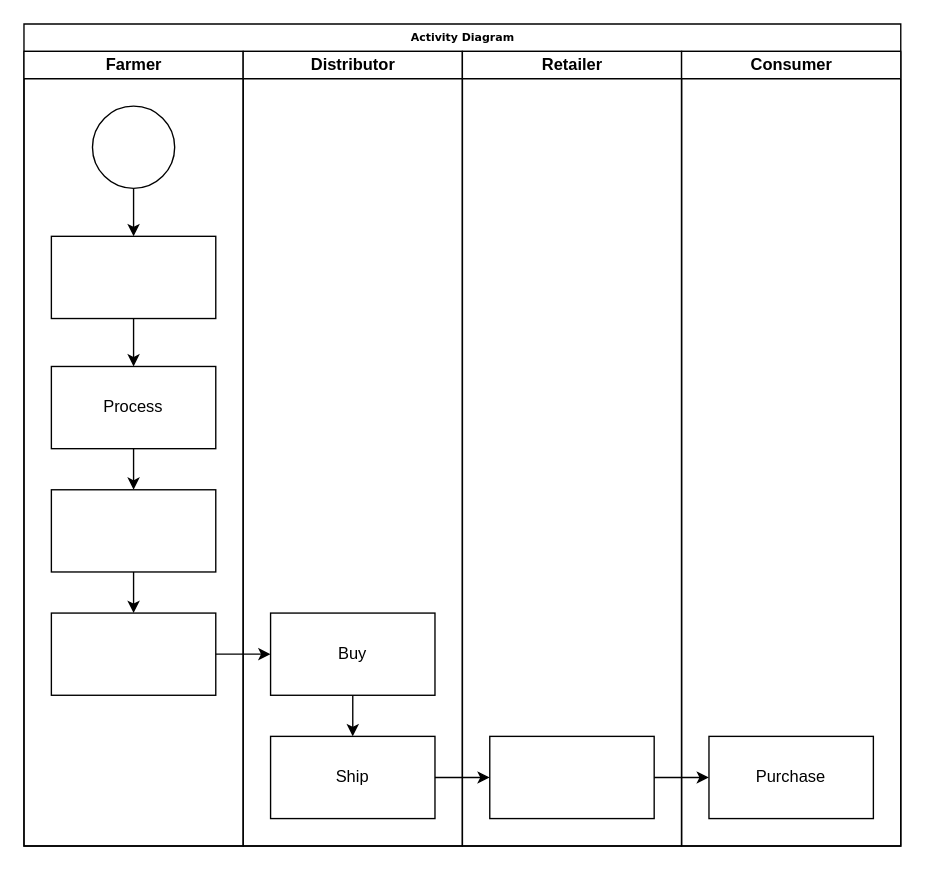
The diagram is 925 pixels wide and 870 high, and some of its shapes have lost their labels. The centre of each missing label's shape, as x and y in pixels:
"Havest" goes at point 133,277.
"Pack" goes at point 133,530.
"Receive" goes at point 571,777.
"Sell" goes at point 133,653.
